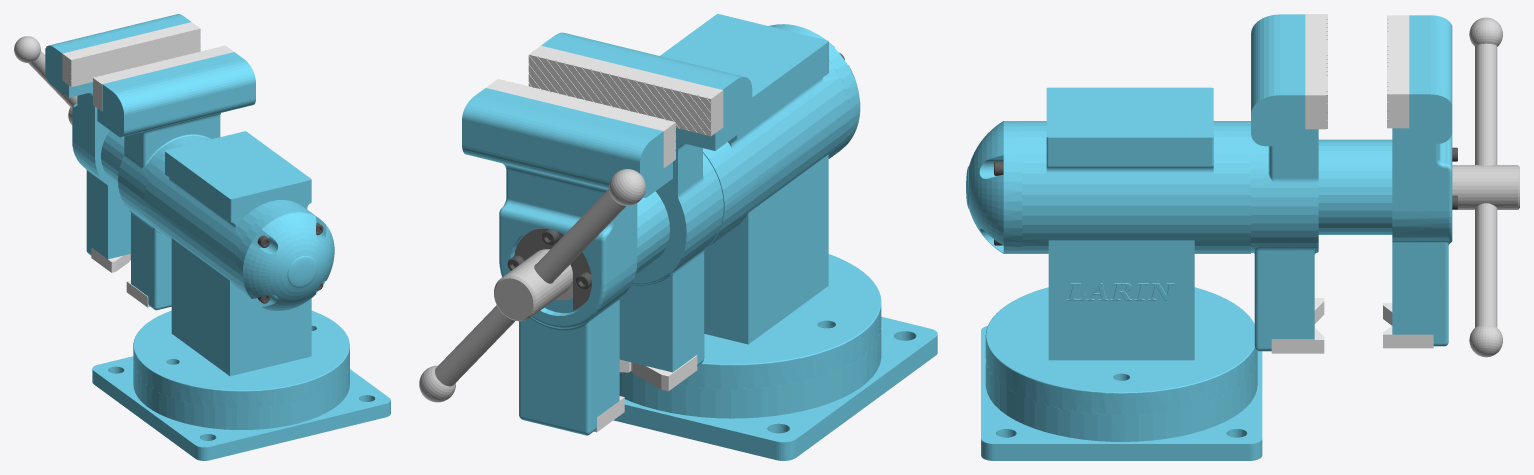
3 views of the same model, side by side, from view 1: azimuth 30°, elevation 25°; view 2: azimuth 150°, elevation 25°; view 3: azimuth 270°, elevation 25° (orthographic). The views are drawn at different scales.
Parts seen in each view (by area): view 1: entity_44, entity_28, entity_48, entity_36, entity_60, entity_40, entity_24, entity_56, entity_78; view 2: entity_44, entity_36, entity_28, entity_48, entity_24, entity_56, entity_52, entity_40, entity_60, entity_82, entity_71; view 3: entity_44, entity_36, entity_28, entity_48, entity_56, entity_60, entity_52, entity_24, entity_40, entity_71, entity_78.
Boxes of the visible parts, bbox=[...] form: entity_44: bbox=[133, 131, 349, 408]; entity_28: bbox=[97, 52, 255, 310]; entity_48: bbox=[92, 356, 390, 460]; entity_36: bbox=[45, 14, 190, 259]; entity_60: bbox=[235, 207, 334, 310]; entity_40: bbox=[62, 22, 200, 86]; entity_24: bbox=[93, 45, 233, 111]; entity_56: bbox=[14, 36, 77, 108]; entity_78: bbox=[91, 247, 130, 272]; entity_44: bbox=[630, 14, 881, 388]; entity_36: bbox=[462, 88, 672, 435]; entity_28: bbox=[541, 32, 752, 372]; entity_48: bbox=[613, 316, 937, 460]; entity_24: bbox=[528, 45, 723, 136]; entity_56: bbox=[419, 169, 645, 402]; entity_52: bbox=[494, 249, 572, 321]; entity_40: bbox=[486, 79, 675, 167]; entity_60: bbox=[769, 24, 860, 158]; entity_82: bbox=[514, 228, 591, 310]; entity_71: bbox=[619, 355, 697, 391]; entity_44: bbox=[985, 87, 1257, 414]; entity_36: bbox=[1318, 15, 1452, 346]; entity_28: bbox=[1251, 14, 1318, 351]; entity_48: bbox=[981, 326, 1262, 460]; entity_56: bbox=[1469, 17, 1502, 357]; entity_60: bbox=[966, 121, 1022, 253]; entity_52: bbox=[1452, 165, 1519, 209]; entity_24: bbox=[1305, 14, 1327, 129]; entity_40: bbox=[1387, 15, 1409, 128]; entity_71: bbox=[1271, 298, 1324, 353]; entity_78: bbox=[1383, 303, 1433, 348].
Bounding box in the file's own units: 190 × 259 × 375.
